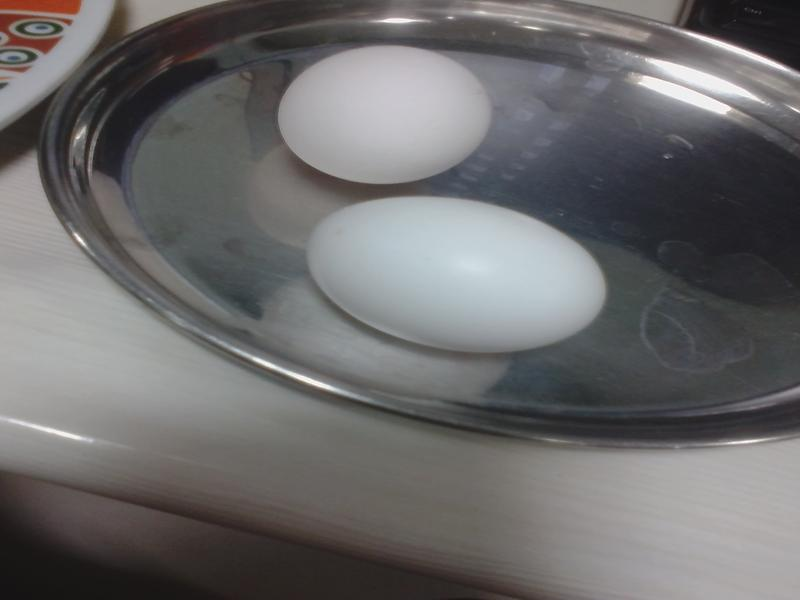egg: (311, 198, 605, 351)
